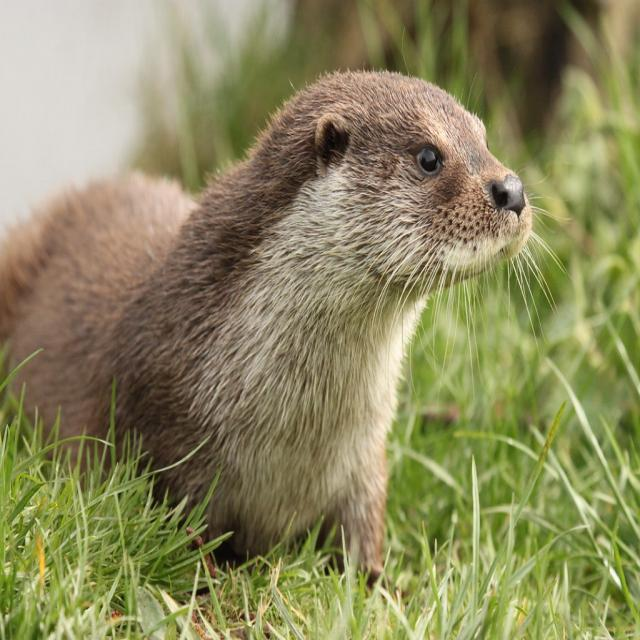otter: (98, 75, 534, 537)
